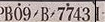character: (40, 6, 50, 22), (72, 6, 82, 22), (81, 6, 91, 22), (4, 5, 13, 22), (22, 6, 31, 22), (57, 6, 66, 22), (13, 6, 22, 21), (66, 6, 74, 21)
